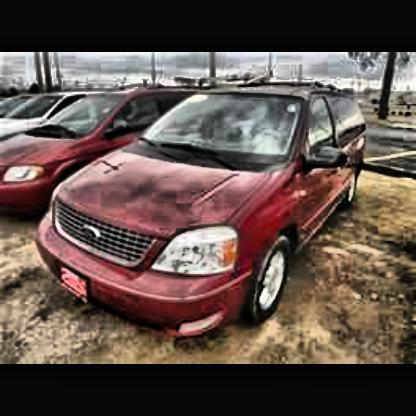Ford Freestar Minivan 2007: (37, 86, 371, 330)
